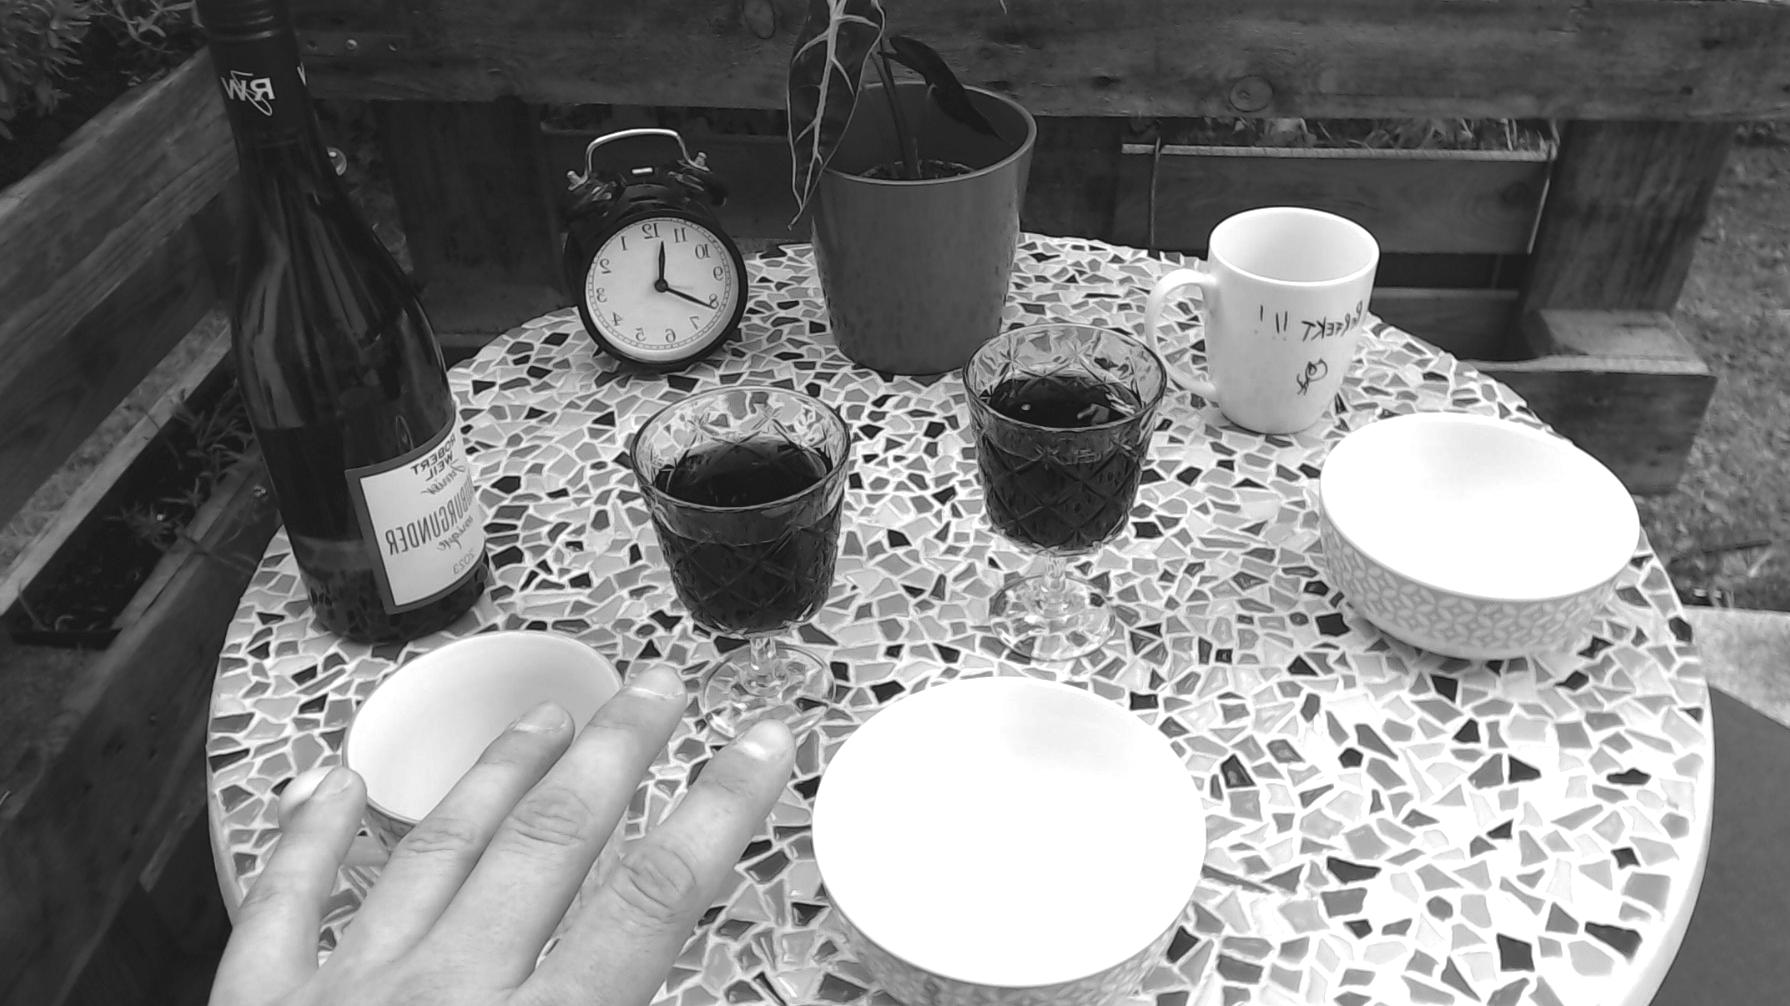bottle: (191, 0, 495, 641)
bowl_close: (810, 674, 1207, 1006)
bowl_far: (1314, 412, 1642, 662)
clock: (582, 212, 744, 368)
cup_close: (341, 630, 623, 849)
cup_far: (1142, 205, 1381, 434)
hand_close: (205, 667, 765, 1006)
potted_plant: (784, 0, 1038, 378)
wineglass_close: (632, 382, 853, 751)
wineglass_far: (961, 311, 1172, 663)
